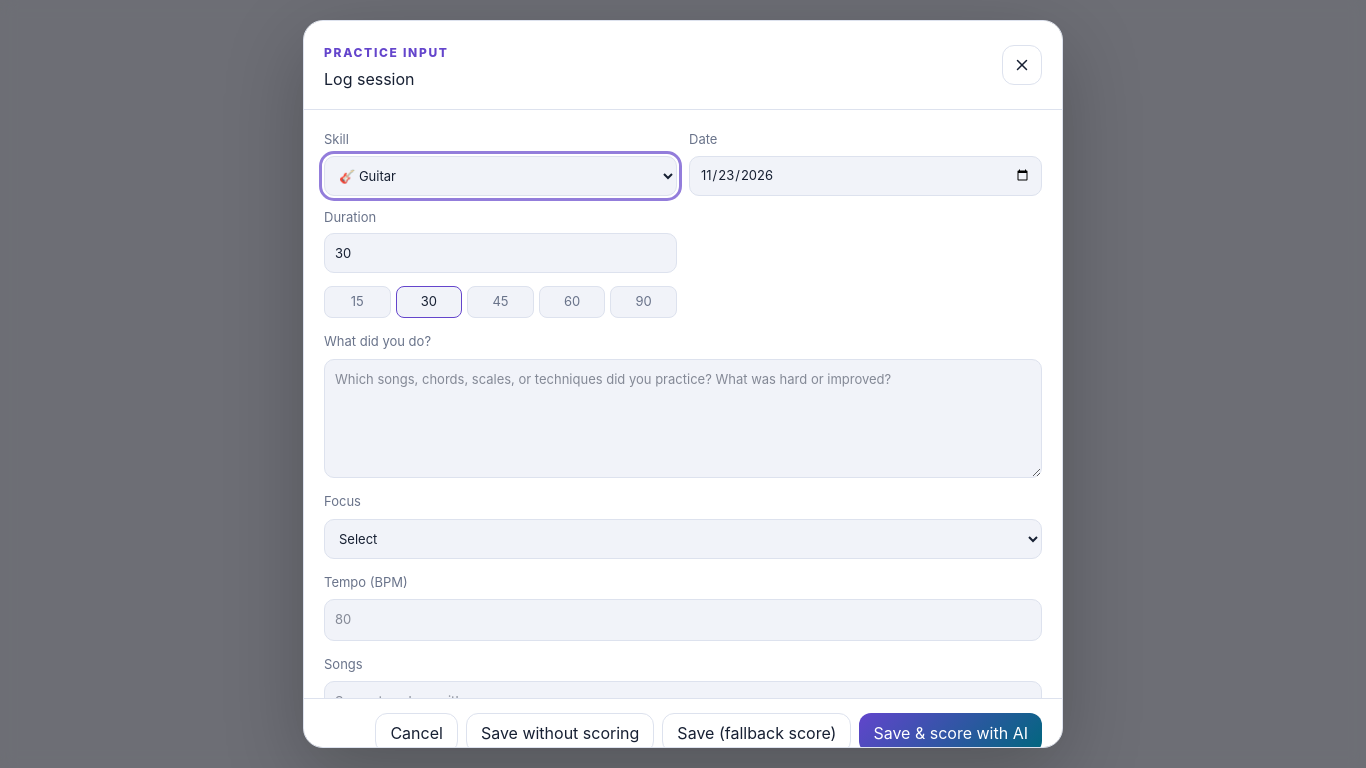
LogSessionModal › validates duration and notes
Replace the text in the field labelled "Duration" with "invalid". click: (500, 253)
box: [324,233,677,273]
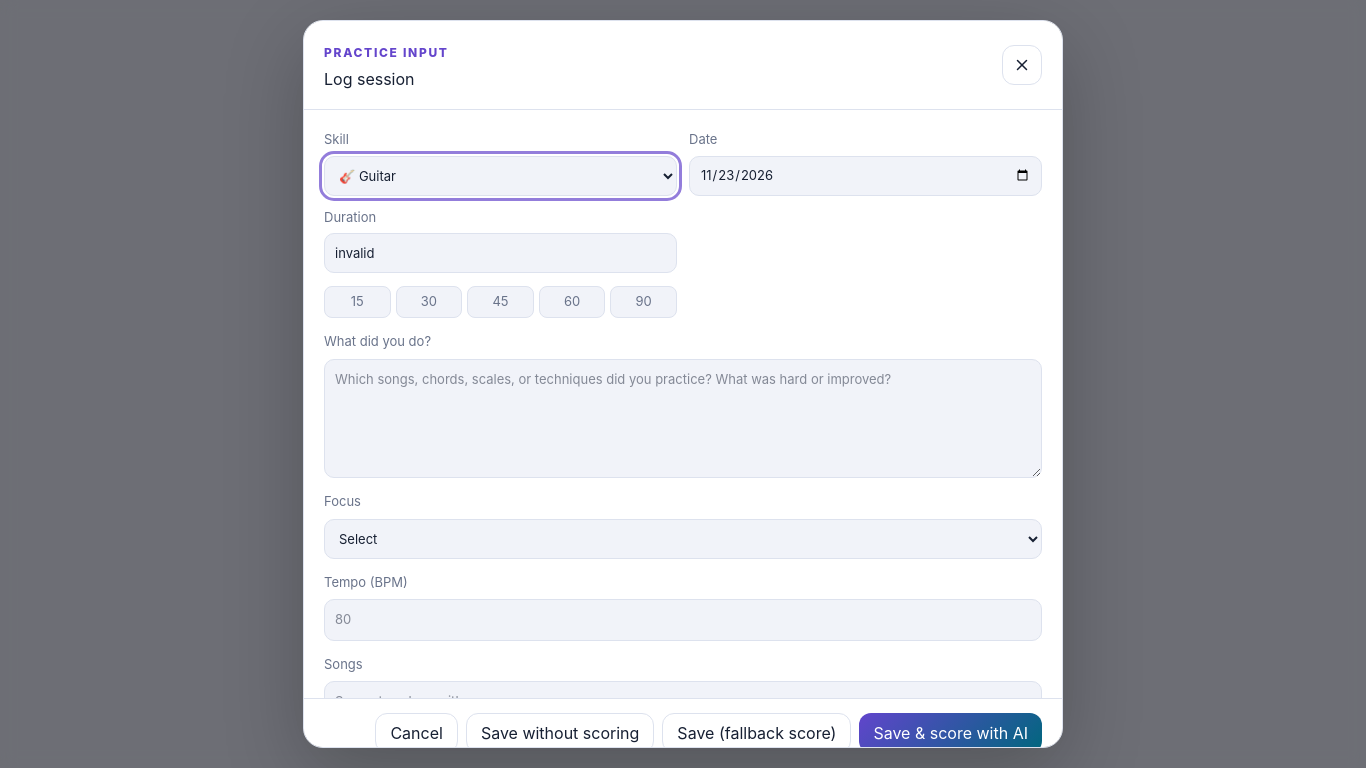
Click the button "Save without scoring". click: (560, 733)
box: [466,713,654,753]
(page scrolled)
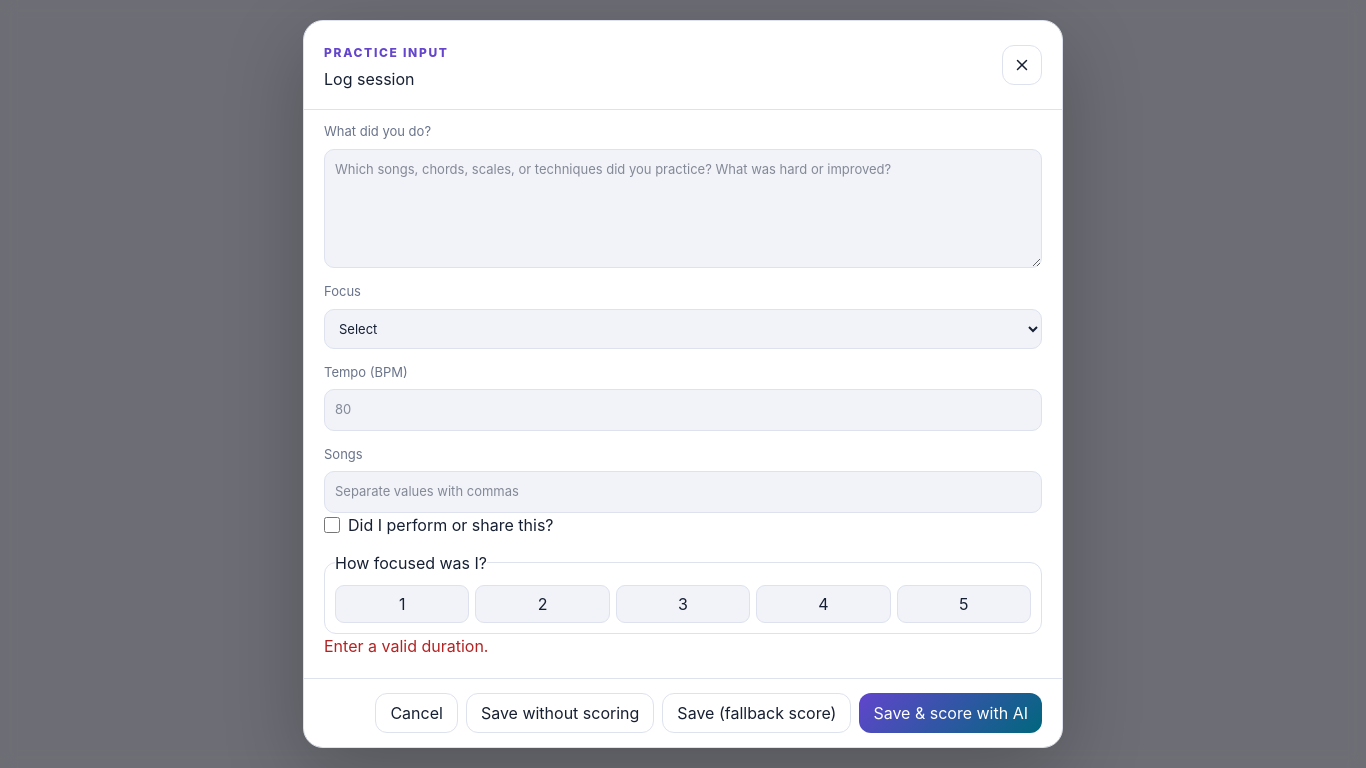
Expected: the text "Enter a valid duration." is shown, [324,636,488,656]
